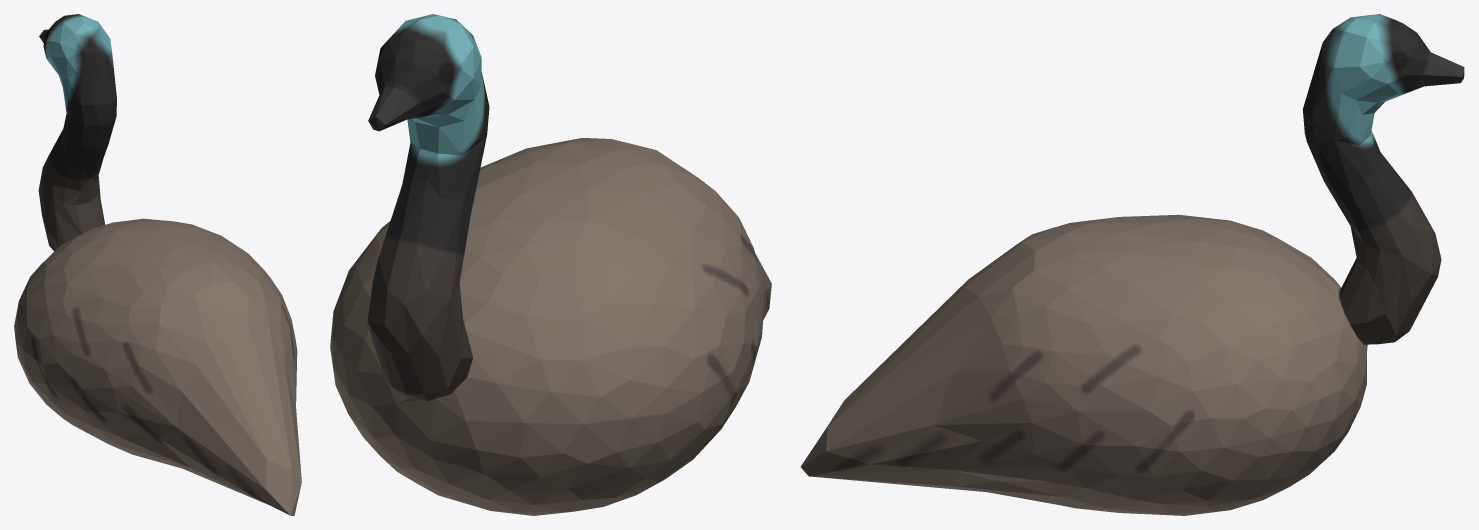
Rendered from animal_emu_blob.obj.
3 views of the same model, side by side, from view 1: azimuth 30°, elevation 25°; view 2: azimuth 150°, elevation 25°; view 3: azimuth 270°, elevation 25° (orthographic). The views are drawn at different scales.
Parts seen in each view (by area): view 1: animal_emu_blob; view 2: animal_emu_blob; view 3: animal_emu_blob.
Part boxes in pixels (x1,y1,x2,y2): animal_emu_blob: (14, 14, 301, 515); animal_emu_blob: (330, 14, 771, 515); animal_emu_blob: (800, 14, 1464, 515).
Size of the model in its own units: 0.6294 by 0.9239 by 1.16.
